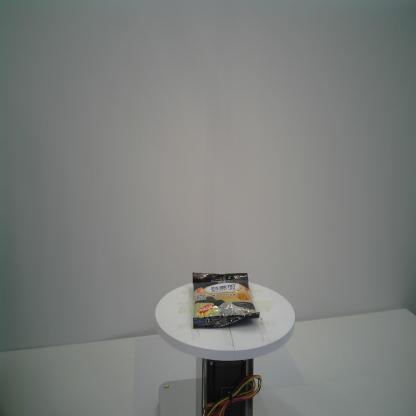Instant Drink: (192, 272, 260, 330)
